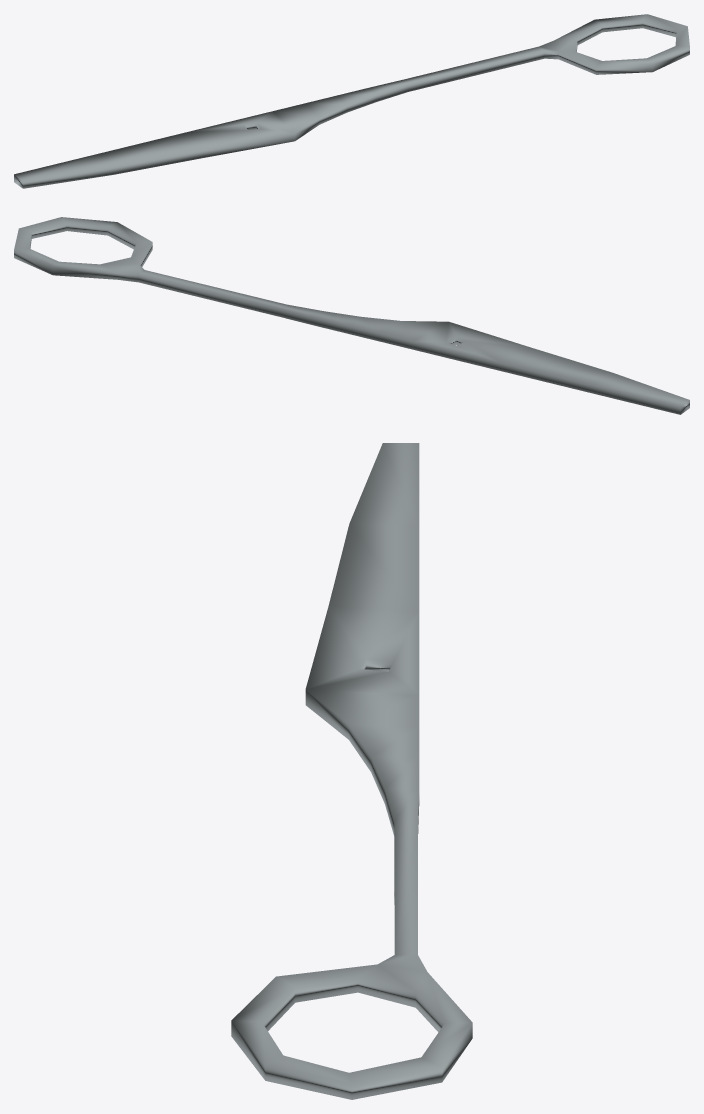
The model's file is scissor.glb.
3 views of the same model, one above another, from view 1: azimuth 30°, elevation 25°; view 2: azimuth 150°, elevation 25°; view 3: azimuth 270°, elevation 25° (orthographic). The views are drawn at different scales.
Parts seen in each view (by area): view 1: Sword; view 2: Sword; view 3: Sword.
Part boxes in pixels (box(x1,y1,x2,y2)): Sword: box(14, 14, 689, 188); Sword: box(14, 217, 689, 414); Sword: box(231, 443, 472, 1099).
Bounding box in the file's own units: 4.63 × 0.0547 × 0.7363.
1 material, 1 textured.
